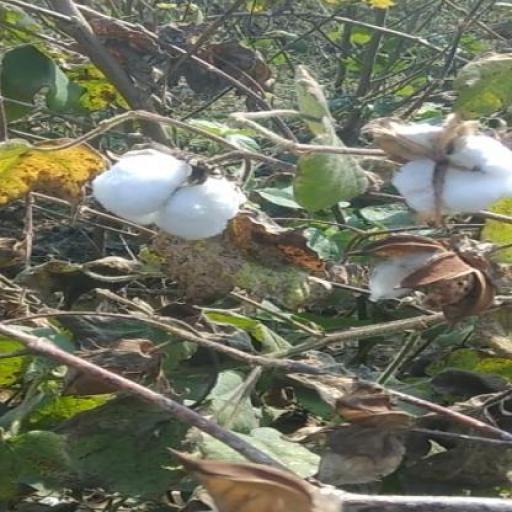cotton_ready: (85, 139, 255, 246), (348, 110, 511, 220)
